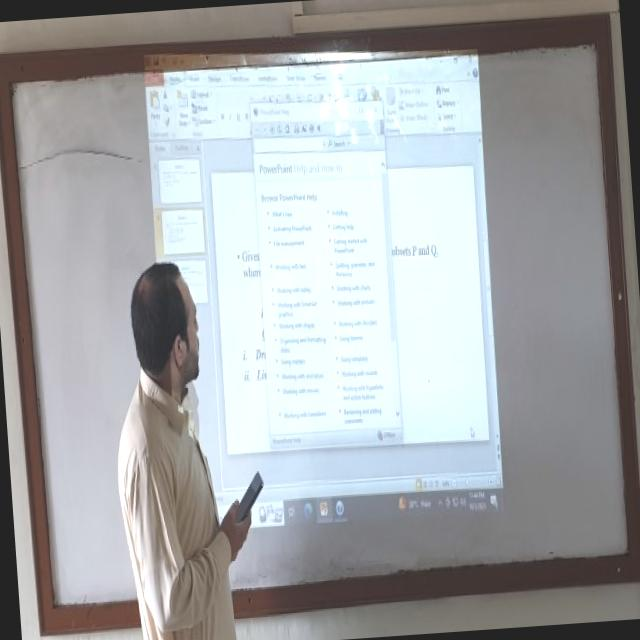Instructor: (110, 251, 253, 640)
Slide: (140, 54, 508, 544)
White-board: (3, 26, 638, 618)
